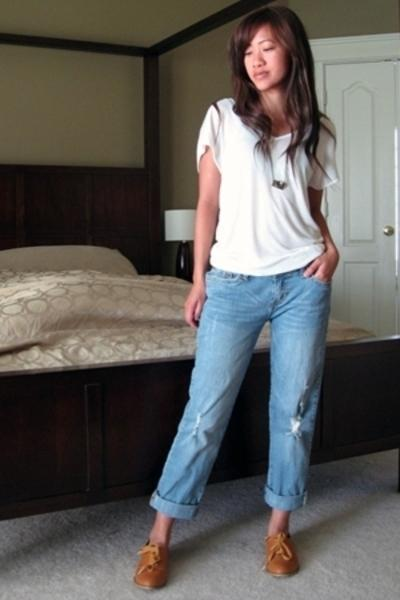pants: (150, 260, 335, 519)
shirt: (198, 98, 335, 275)
shoe: (134, 527, 306, 586)
